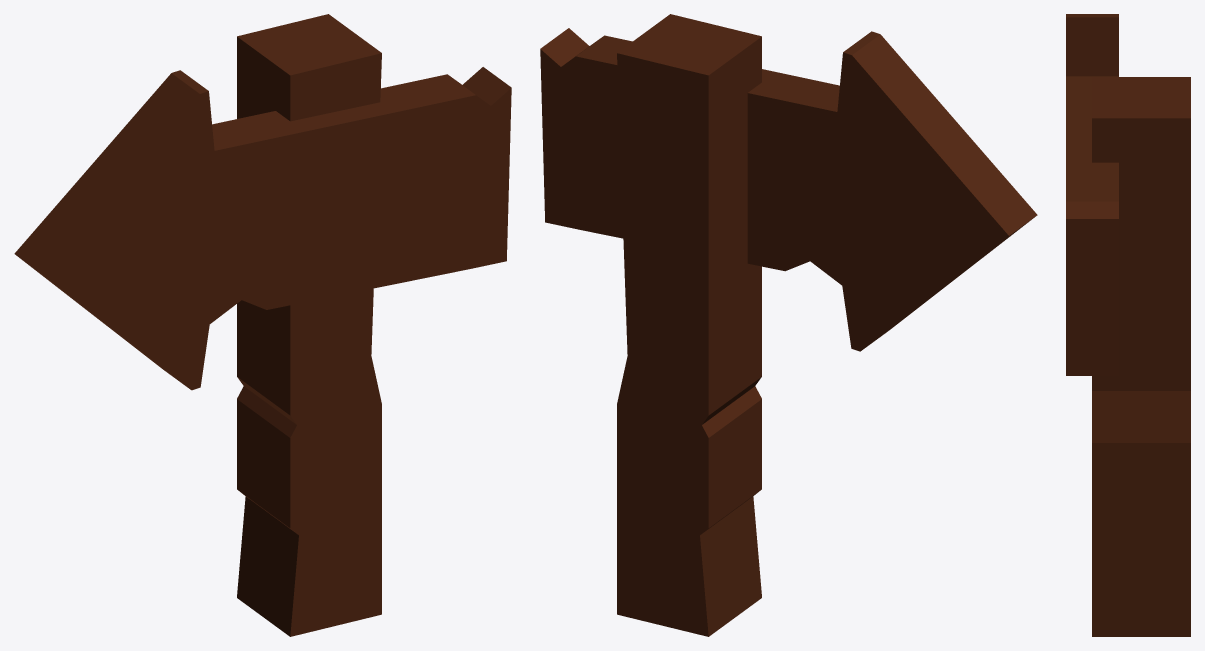
File: SignLeft.obj
3 views of the same model, side by side, from view 1: azimuth 30°, elevation 25°; view 2: azimuth 150°, elevation 25°; view 3: azimuth 270°, elevation 25° (orthographic). The views are drawn at different scales.
Parts seen in each view (by area): view 1: Sign_Left_Cube.011; view 2: Sign_Left_Cube.011; view 3: Sign_Left_Cube.011.
Boxes of the visible parts, <box> form: Sign_Left_Cube.011: <box>14,14,511,636</box>; Sign_Left_Cube.011: <box>540,14,1037,636</box>; Sign_Left_Cube.011: <box>1066,14,1190,636</box>.
Bounding box in the file's own units: 1.1 × 1.3 × 0.2746.
